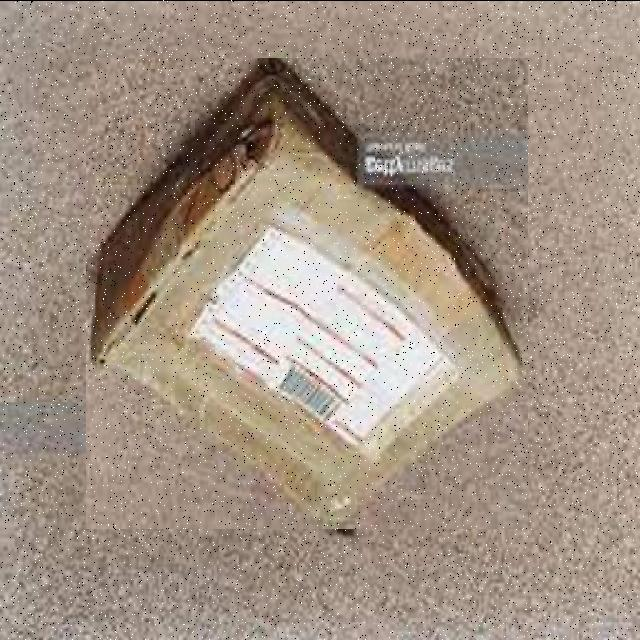normal: (86, 57, 528, 528)
